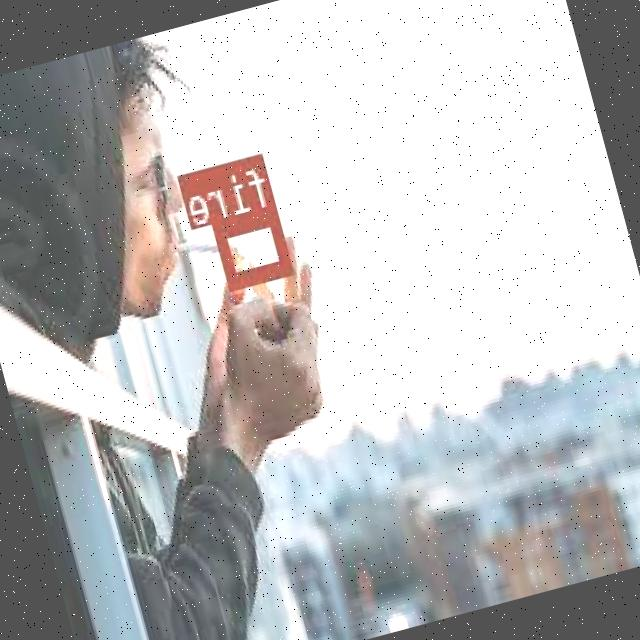fire: (213, 205, 294, 286)
